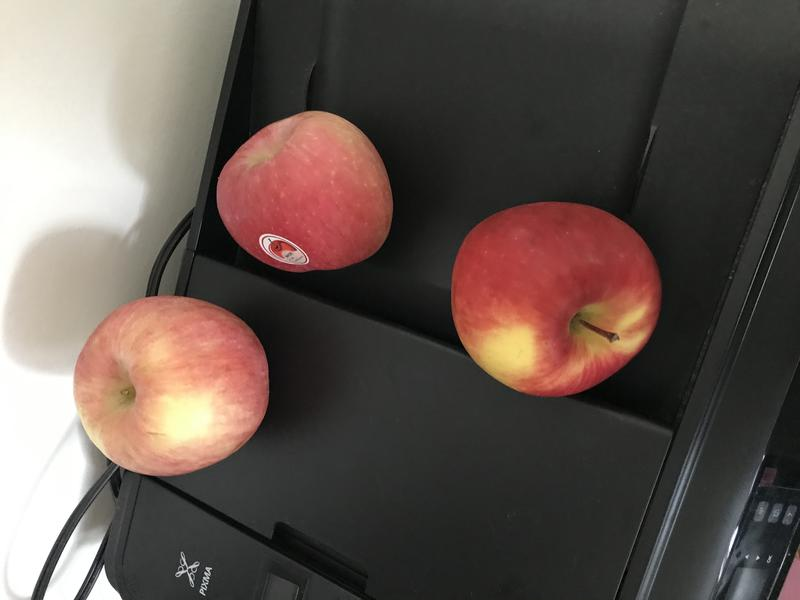red_apple: (435, 197, 674, 404), (62, 283, 280, 483), (210, 106, 401, 277)
